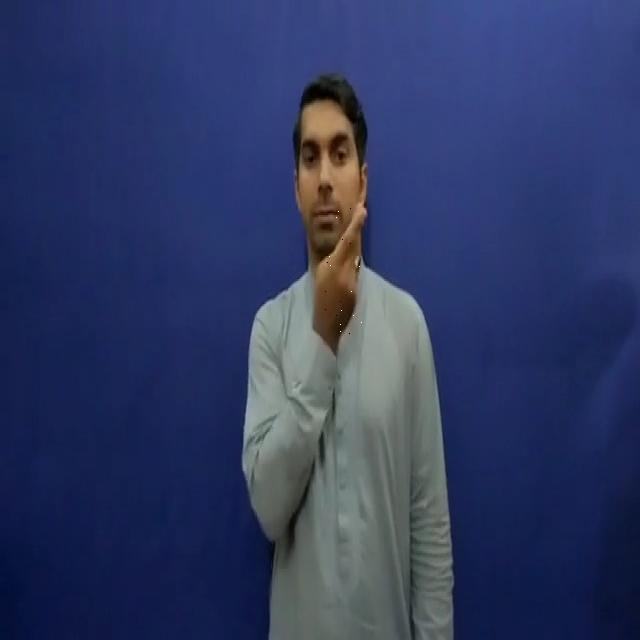napkin: (320, 199, 370, 334)
